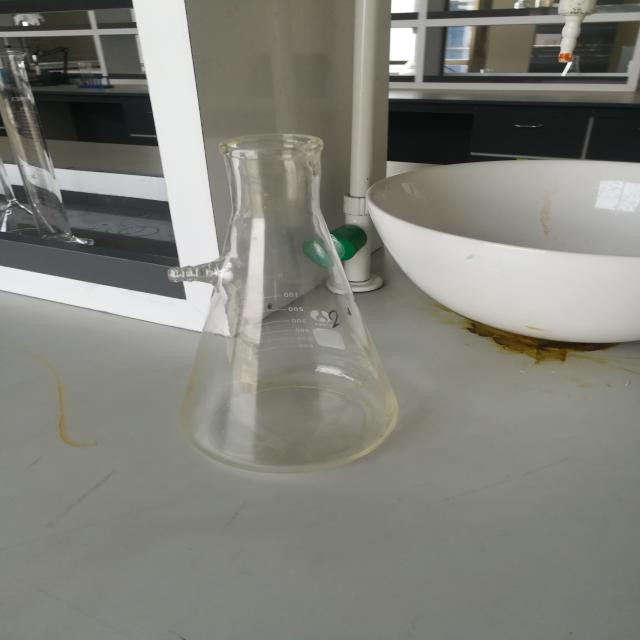Conical_Flask: (145, 79, 440, 510)
